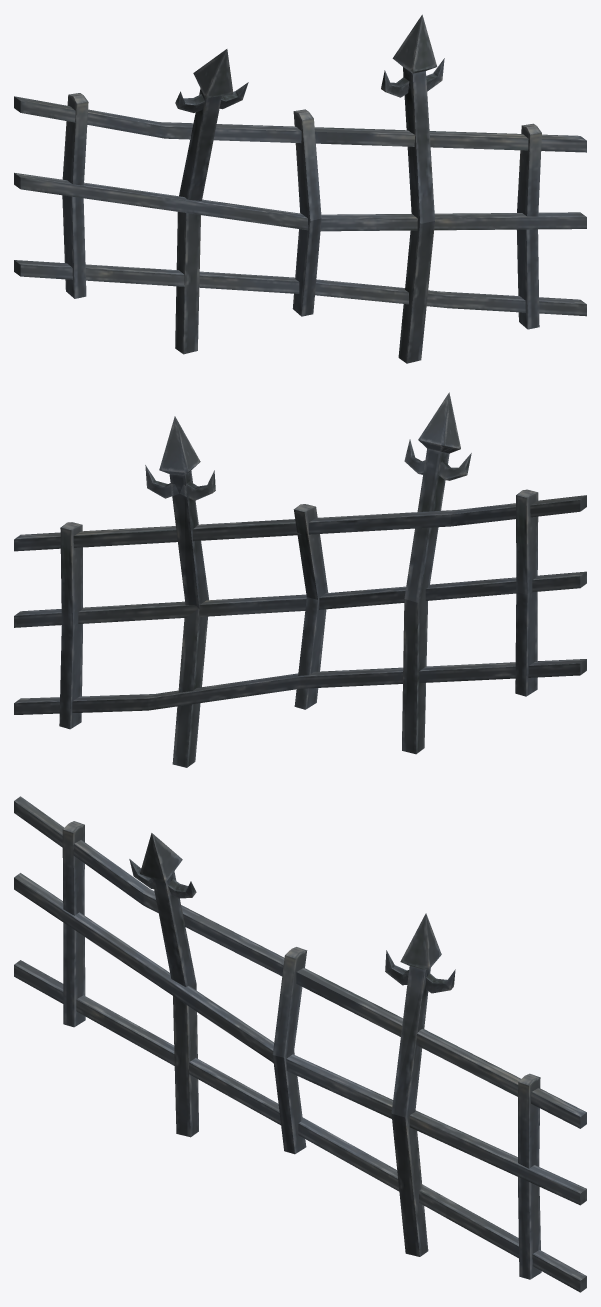
The model's file is FenceDiagonal_002.obj.
The picture shows the model from 3 angles, top to bottom: view 1: azimuth 30°, elevation 25°; view 2: azimuth 150°, elevation 25°; view 3: azimuth 330°, elevation 25°; orthographic projection.
Visible parts, largest first — view 1: FenceDiagonal_002; view 2: FenceDiagonal_002; view 3: FenceDiagonal_002.
Boxes of the visible parts, bbox=[...] form: FenceDiagonal_002: bbox=[14, 14, 586, 363]; FenceDiagonal_002: bbox=[14, 392, 586, 767]; FenceDiagonal_002: bbox=[14, 796, 586, 1292].
Size of the model in its own units: 10 by 6.67 by 1.53.
